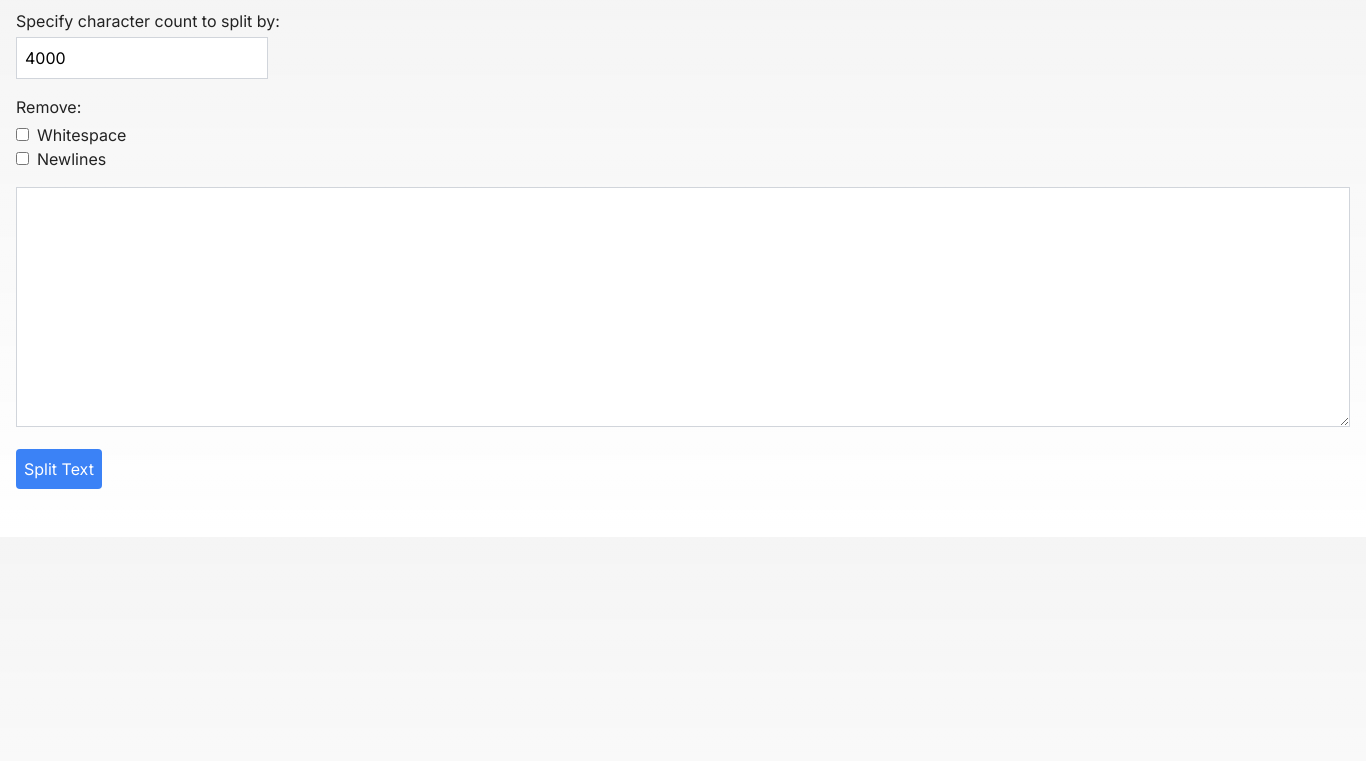
Test: TextSplitter Component › splits text into chunks of specified size when button is clicked with no removal option
Replace the text in the number field labelled "Specify character count to split by:" with "50" at x=142, y=58, box 16,37 -> 268,79
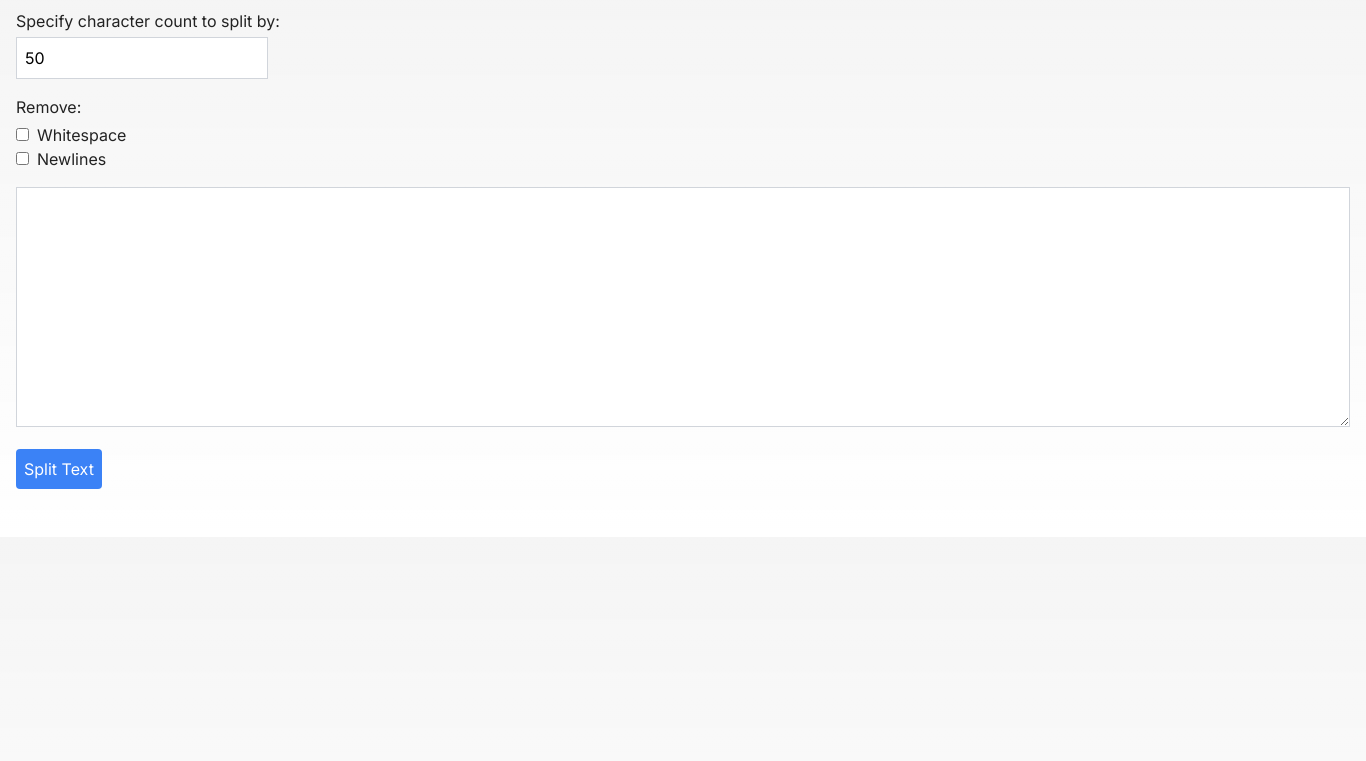
Type "This is a longer test string that should be split into several smaller chunks based on the specified chunk size." into the text box at x=683, y=307, box 16,187 -> 1350,427
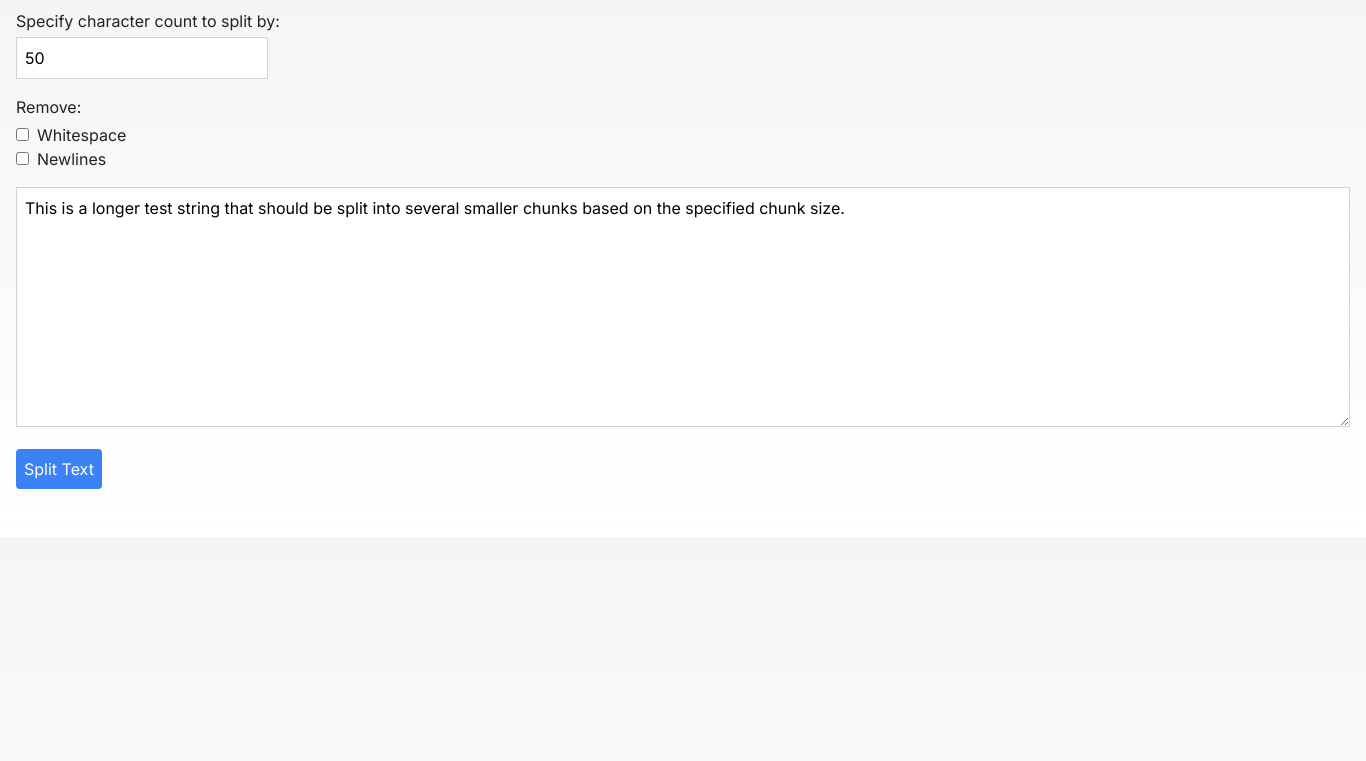
Click the button "Split Text" at x=59, y=469, box 16,449 -> 102,489
(page scrolled)
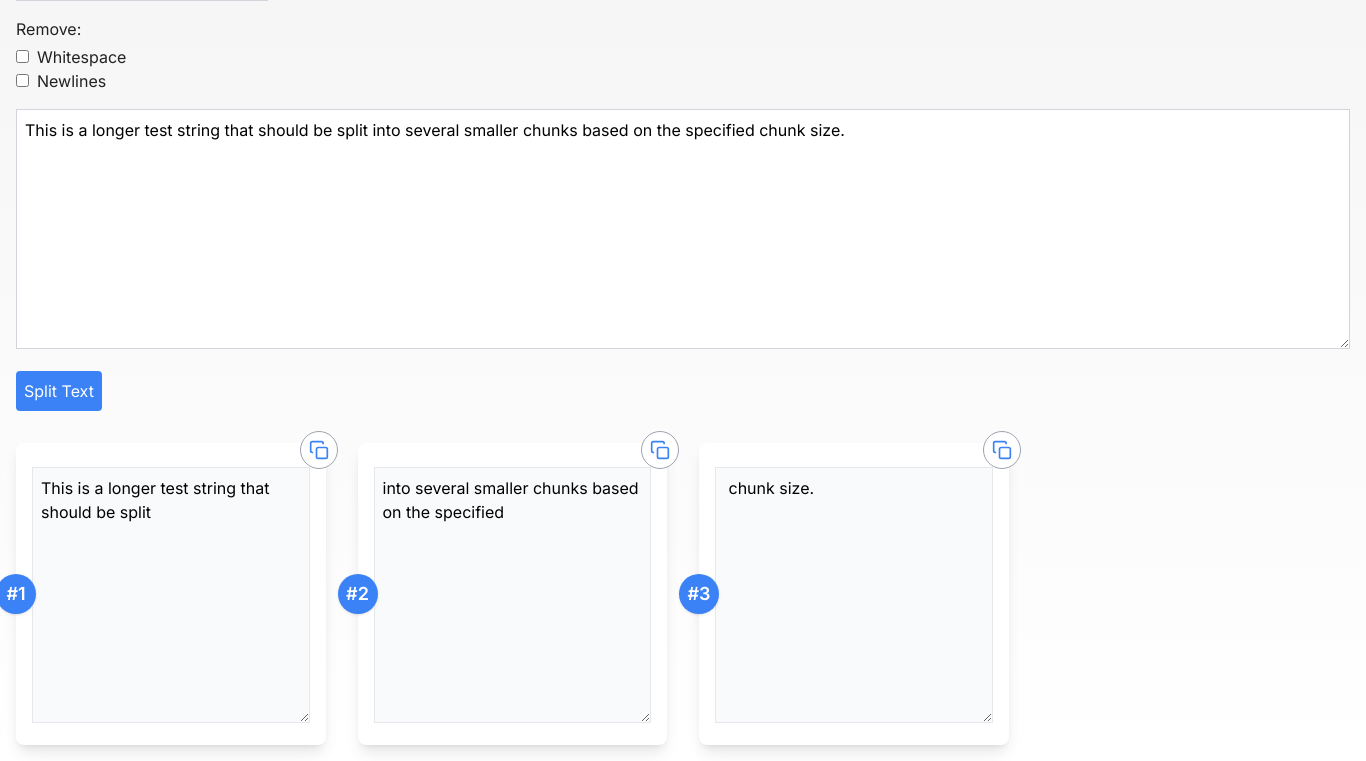
Now the number of text boxes named "chunk" is 3, box 32,467 -> 310,723; 374,467 -> 651,723; 715,467 -> 992,723
Now the 1st text box named "chunk" holds "This is a longer test string that should be split ", box 32,467 -> 310,723
Now the 2nd text box named "chunk" holds "into several smaller chunks based on the specified", box 374,467 -> 651,723
